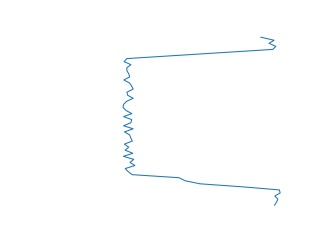distributaryChannelFill: (115, 37, 290, 206)
